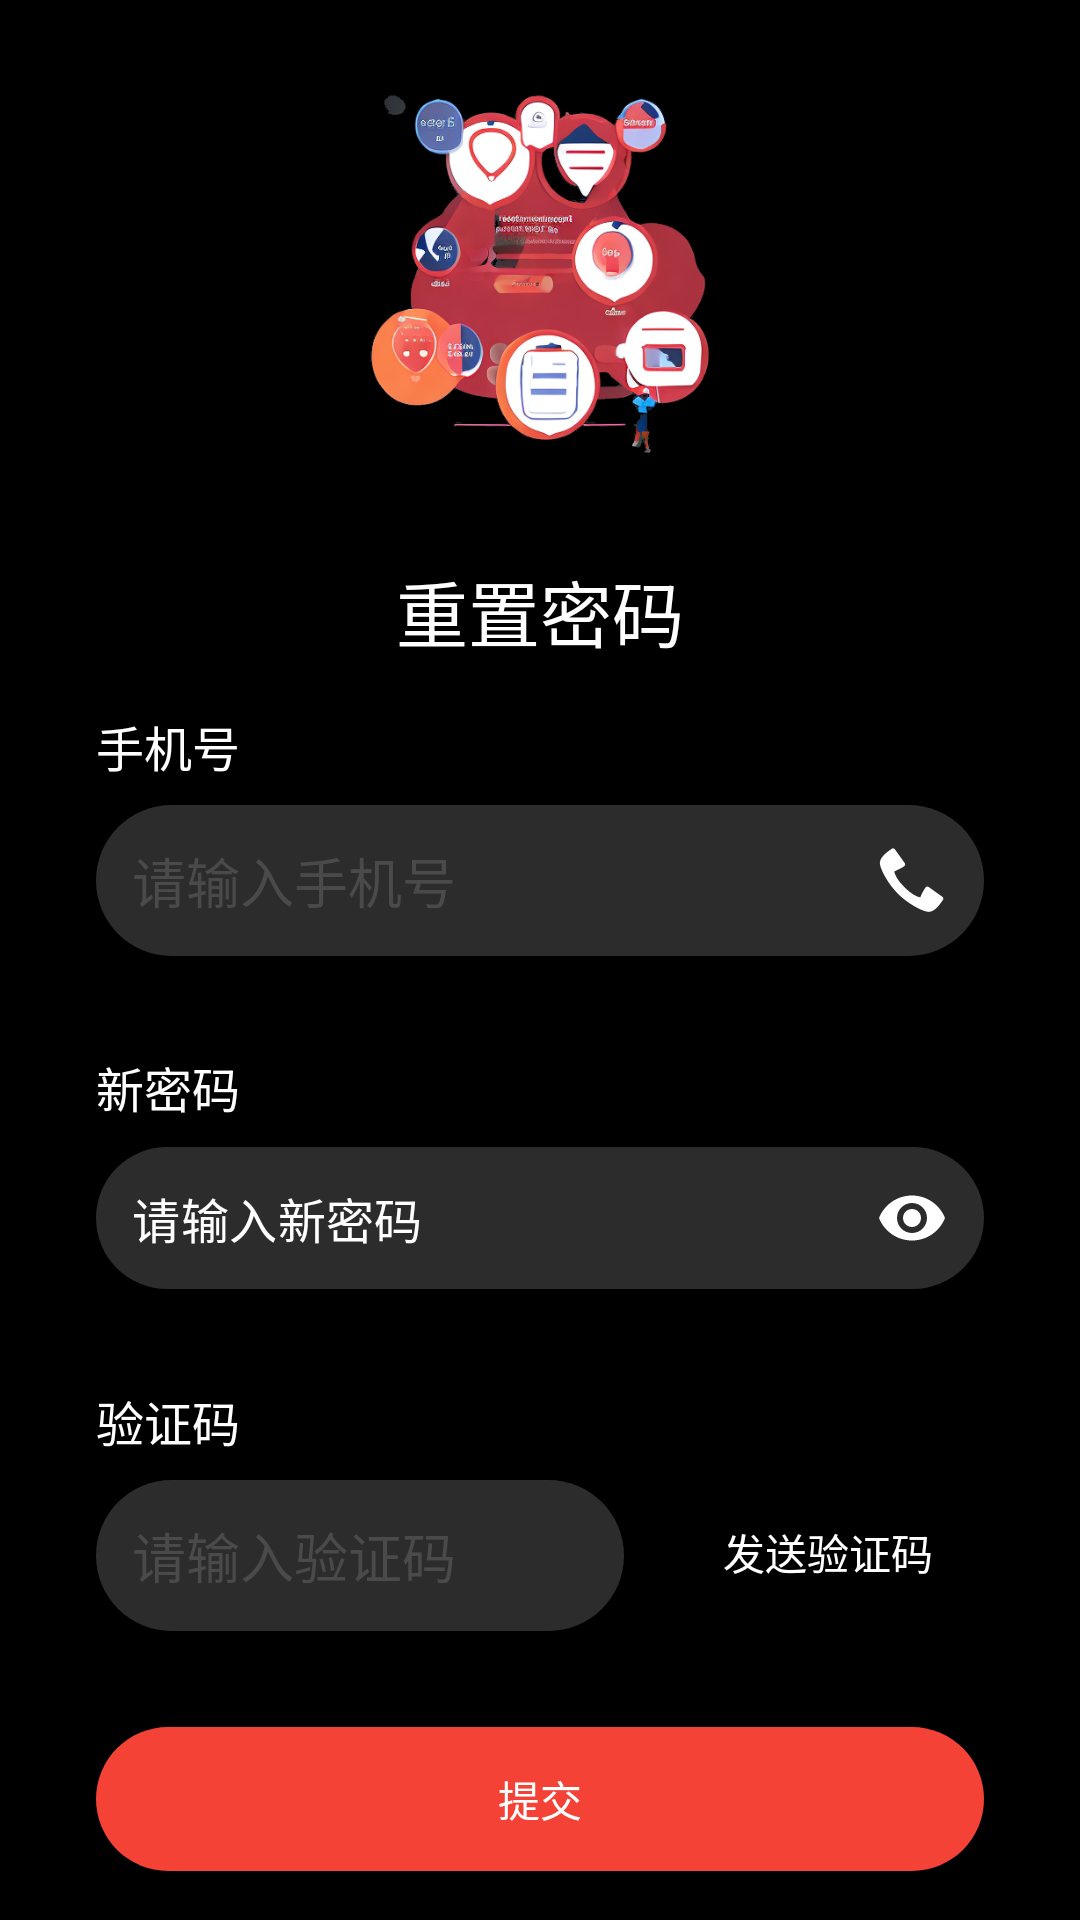

Screen size 1080×1920. Icon name, then its box in pixels as bbox(x1, y1, x2, y2):
角色图像: bbox(370, 95, 709, 453)
